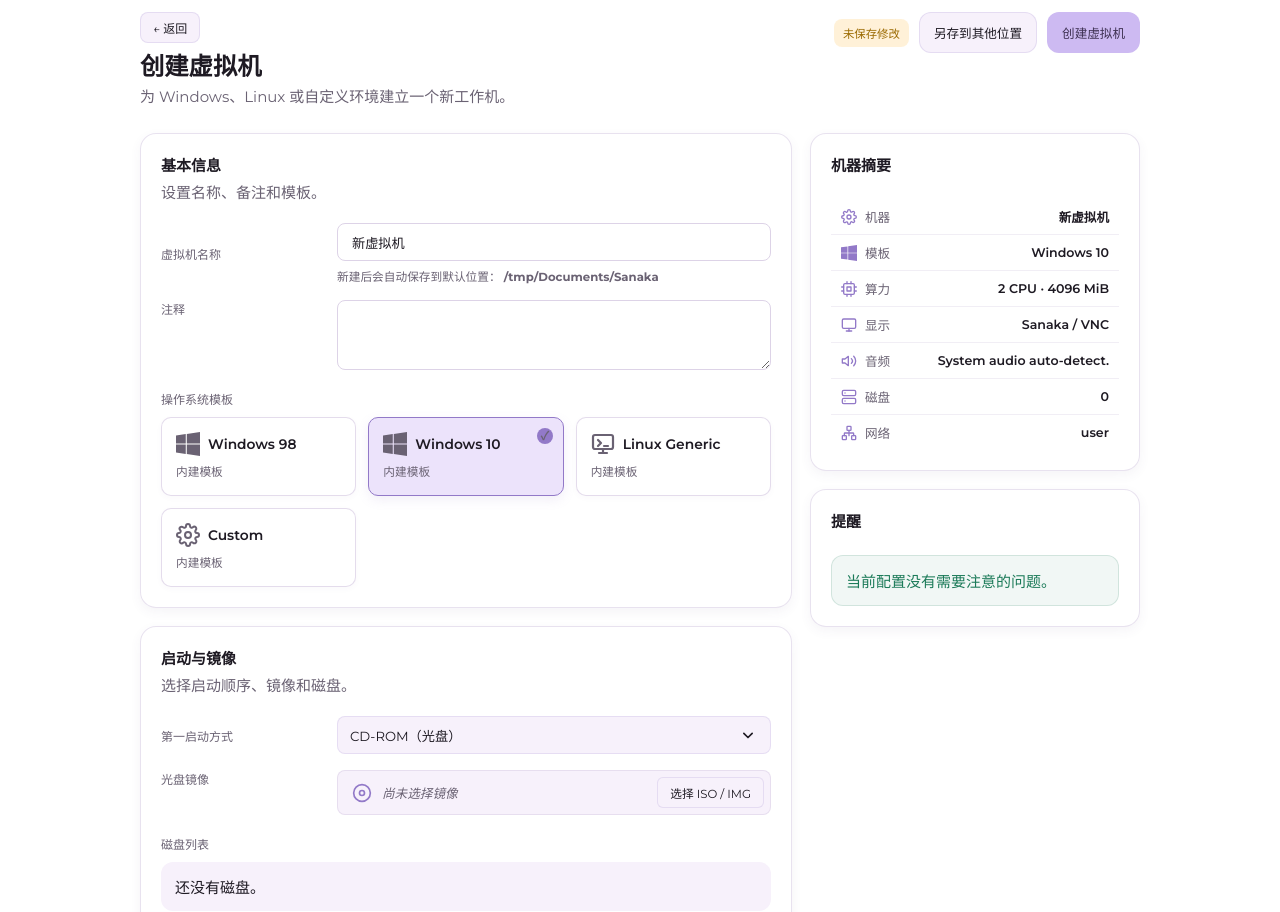
Test case: MachineBuilderPage › syncs the summary when machine title changes
Replace the text in the field labelled "虚拟机名称" with "My Test Machine": [554, 242] box [337,223,771,261]
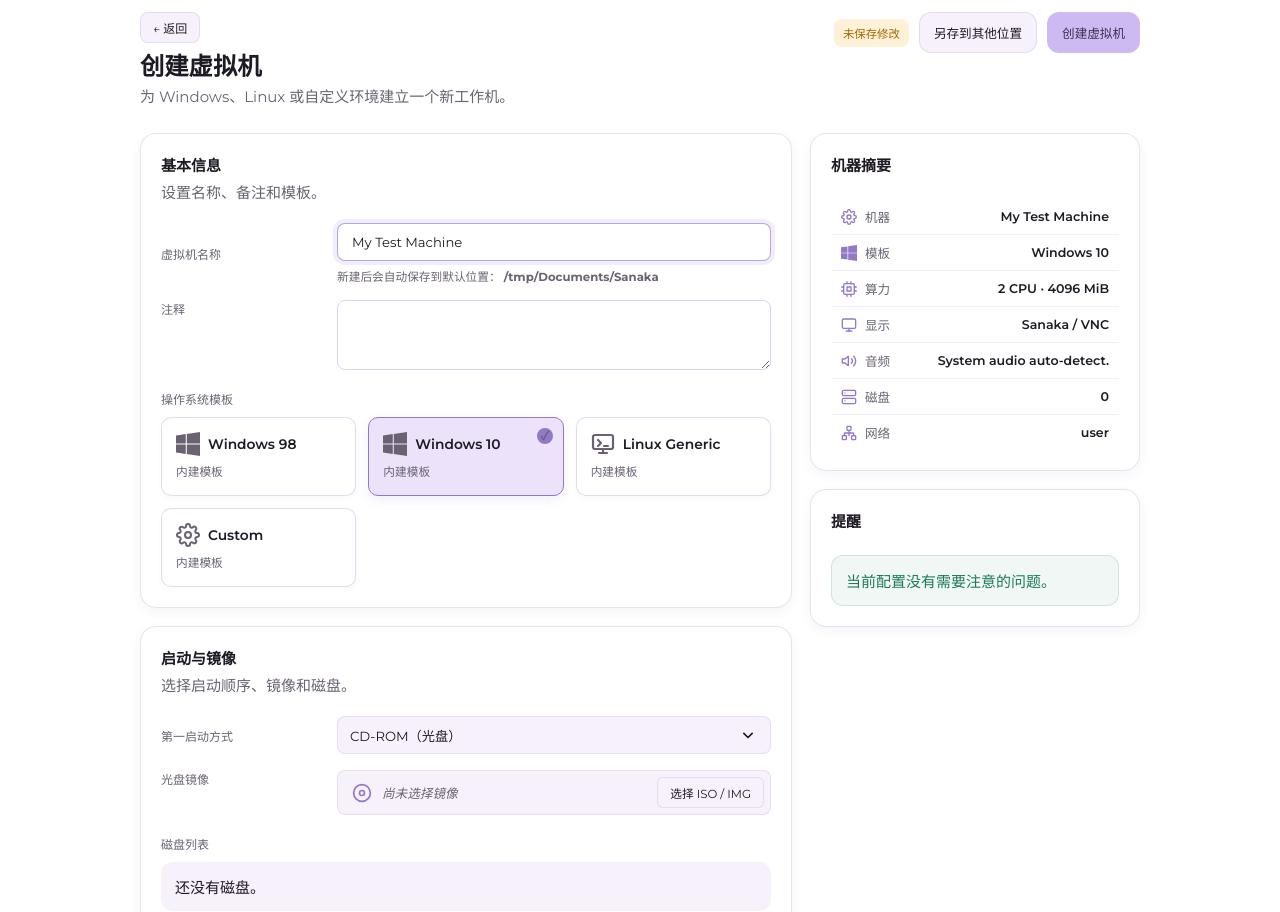
Expected: the text "My Test Machine" is shown, [1000,209,1109,224]
